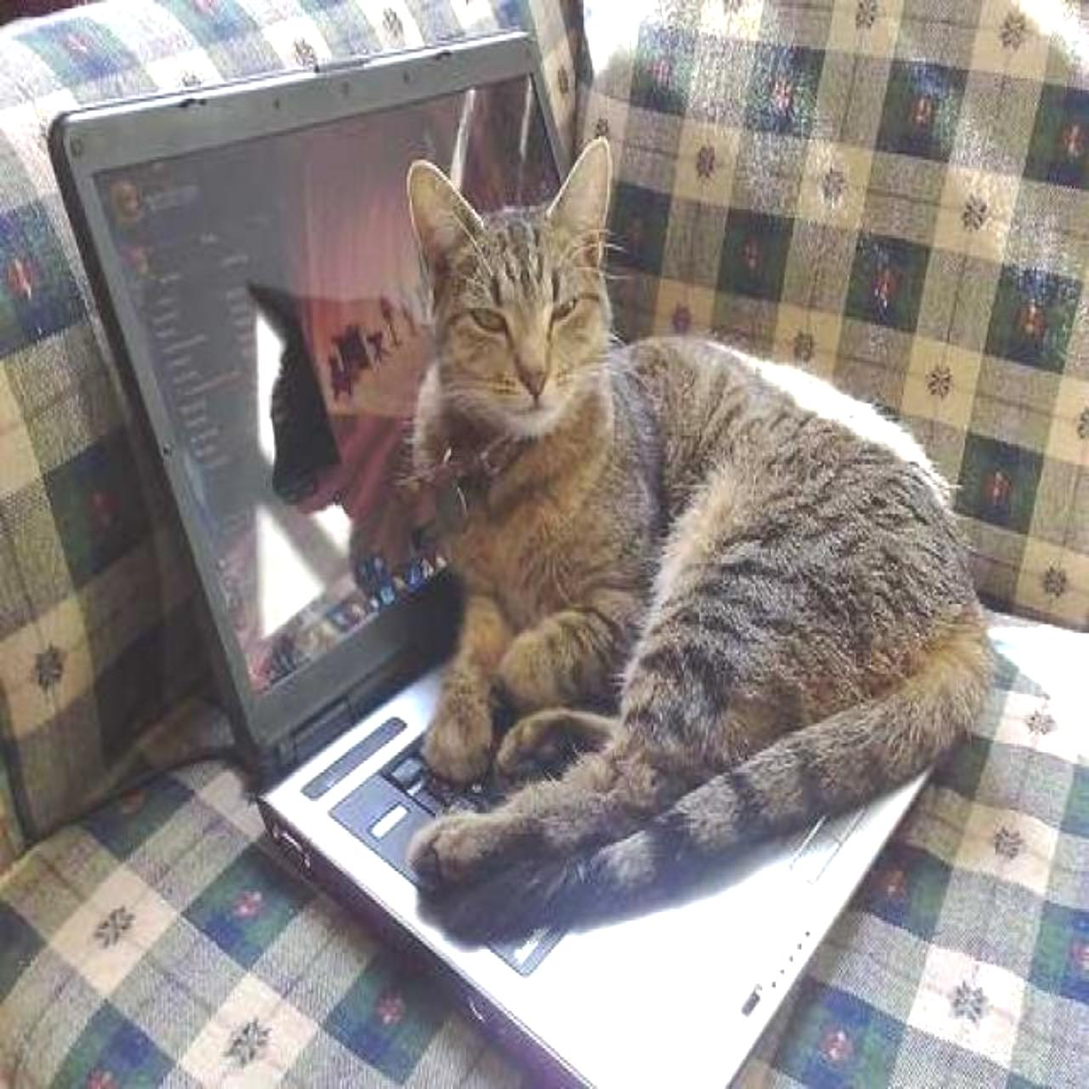laptop: (99, 101, 936, 1066)
